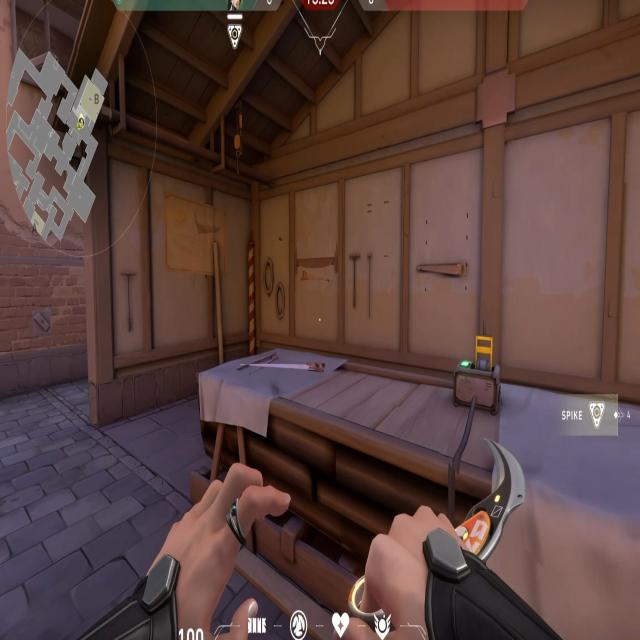B_Garage_Left: (53, 58, 282, 556)
